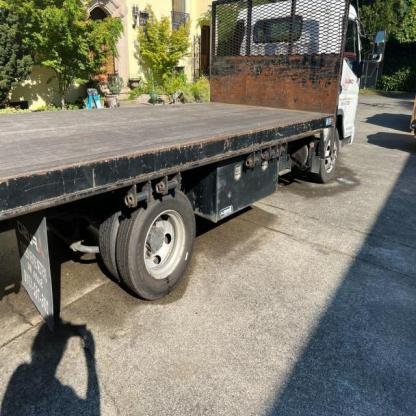truck: (1, 1, 388, 317)
